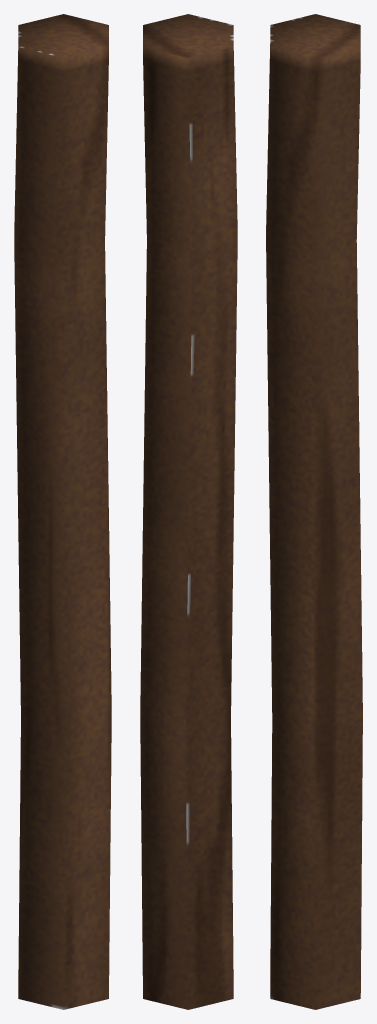
File: Fence_WoodPool.fbx
3 views of the same model, side by side, from view 1: azimuth 30°, elevation 25°; view 2: azimuth 210°, elevation 25°; view 3: azimuth 330°, elevation 25° (orthographic).
Parts seen in each view (by area): view 1: pool_wood; view 2: pool_wood; view 3: pool_wood.
Boxes of the visible parts, x1,y1,x2,y2 form: pool_wood: (14,14,111,1009); pool_wood: (140,14,237,1009); pool_wood: (266,14,362,1009).
Size of the model in its own units: 0.00482 by 0.0452 by 0.00392.
Materials: 1 (1 with a texture image).
